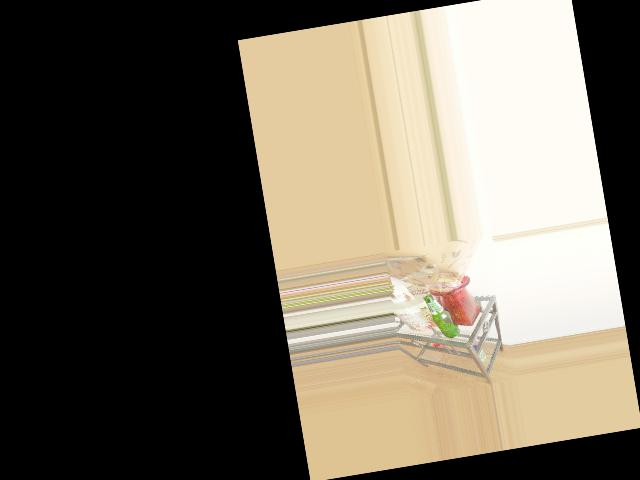beer: (423, 290, 460, 341)
